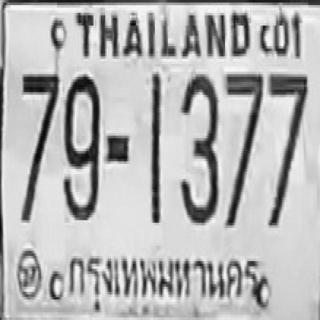N01: (149, 72, 161, 223)
N03: (179, 72, 217, 223)
N07: (267, 72, 307, 225), (224, 70, 262, 224), (21, 72, 58, 220)
N09: (62, 72, 100, 220)
P04: (64, 246, 260, 312)
